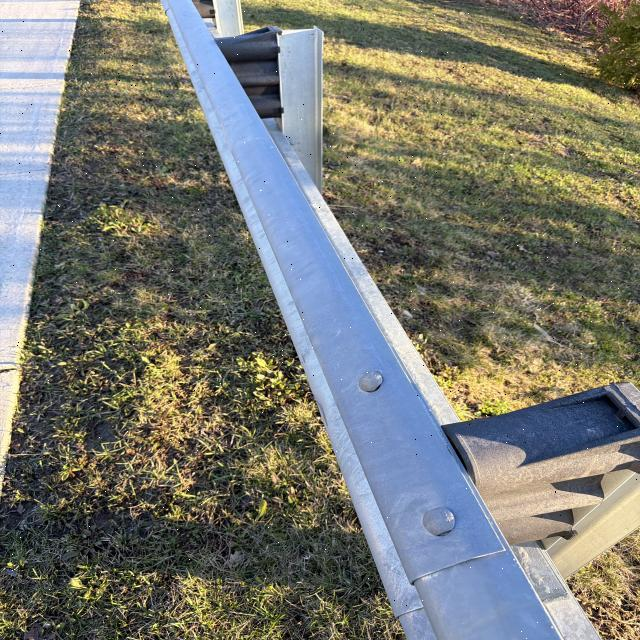Guard rail: (170, 38, 619, 566), (442, 389, 639, 568)
